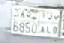0: (31, 9, 38, 34)
5: (26, 9, 31, 33)
6: (13, 8, 19, 32)
8: (20, 8, 25, 33)
A: (40, 10, 46, 33)
B: (53, 14, 59, 34)
L: (46, 13, 52, 34)
